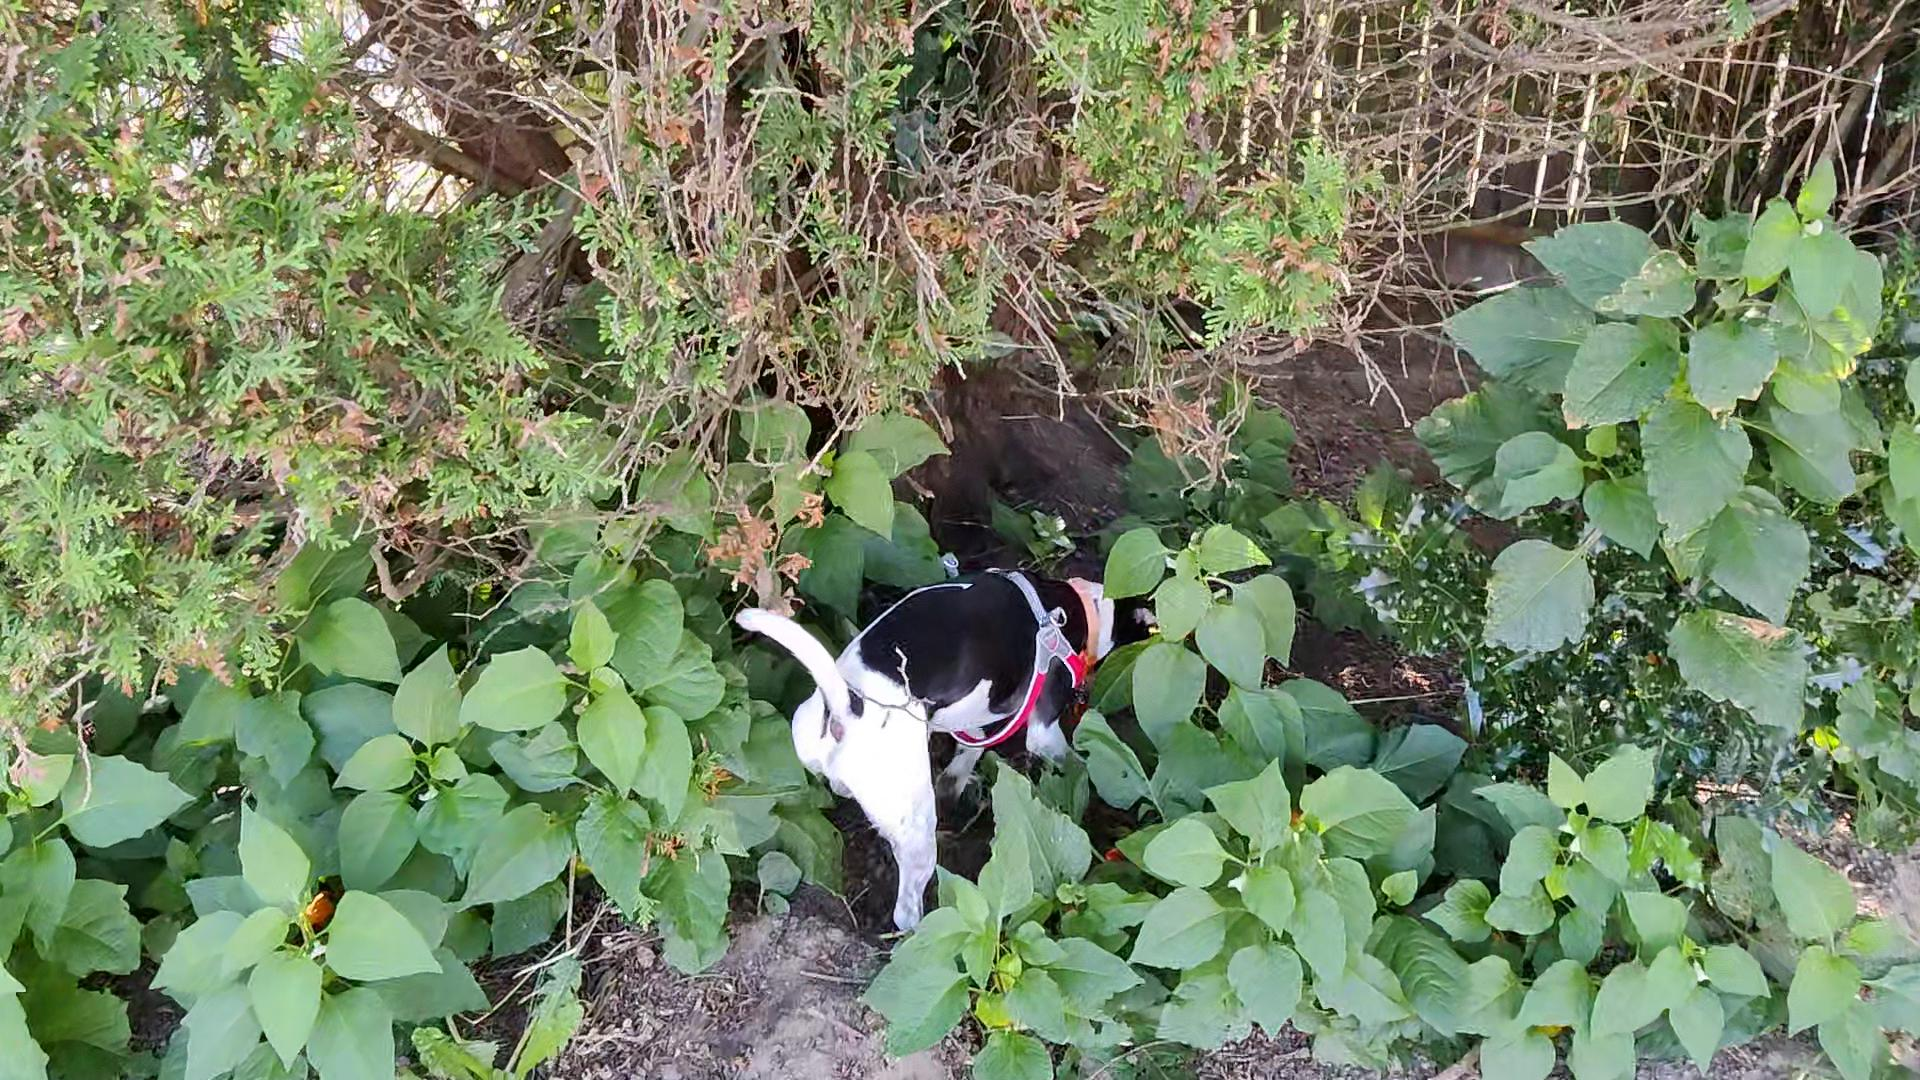Dog: (723, 547, 1182, 945)
